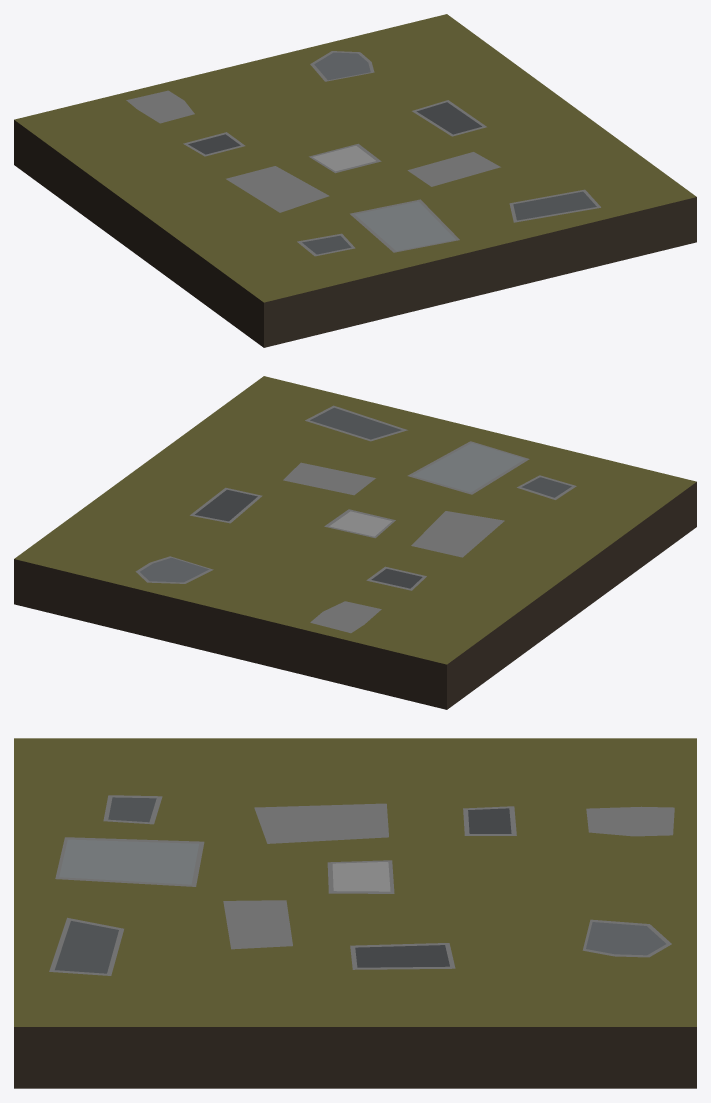
The model's file is patterns TILE1.fbx.
The picture shows the model from 3 angles, top to bottom: view 1: azimuth 30°, elevation 25°; view 2: azimuth 150°, elevation 25°; view 3: azimuth 270°, elevation 25°; orthographic projection. The views are drawn at different scales.
Parts seen in each view (by area): view 1: Stone_patterns_A; view 2: Stone_patterns_A; view 3: Stone_patterns_A.
Part boxes in pixels (box(x1,y1,x2,y2)): Stone_patterns_A: box(14, 14, 696, 347); Stone_patterns_A: box(14, 376, 696, 709); Stone_patterns_A: box(14, 738, 696, 1088).
Bounding box in the file's own units: 300 × 30 × 300.
1 material, 1 textured.
